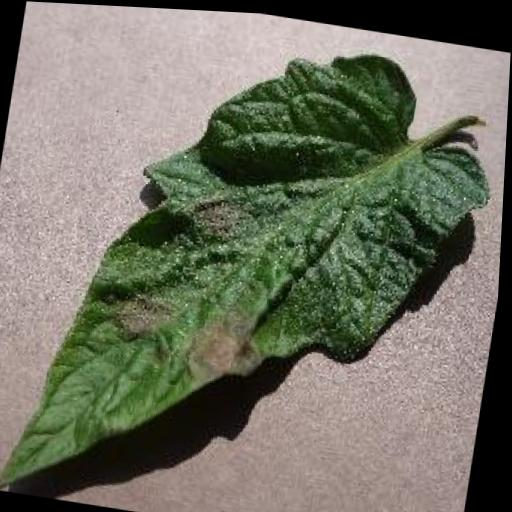Late Blight: (2, 4, 512, 512)
